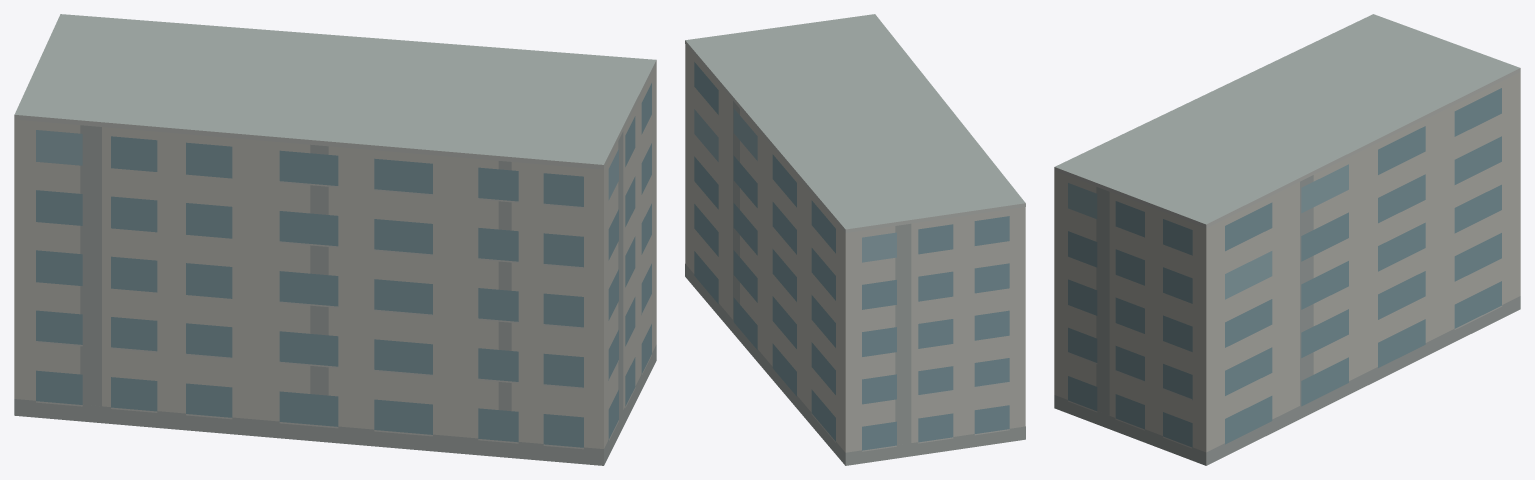
The model's file is survey-upis-32847622.glb.
The picture shows the model from 3 angles, left to right: view 1: azimuth 30°, elevation 25°; view 2: azimuth 150°, elevation 25°; view 3: azimuth 270°, elevation 25°; orthographic projection. The views are drawn at different scales.
Parts seen in each view (by area): view 1: survey-upis-32847622.tmp; view 2: survey-upis-32847622.tmp; view 3: survey-upis-32847622.tmp.
Boxes of the visible parts, x1,y1,x2,y2 form: survey-upis-32847622.tmp: (14, 14, 656, 465); survey-upis-32847622.tmp: (685, 14, 1025, 465); survey-upis-32847622.tmp: (1054, 14, 1520, 465).
Bounding box in the file's own units: 28.53 × 15.25 × 26.69.
